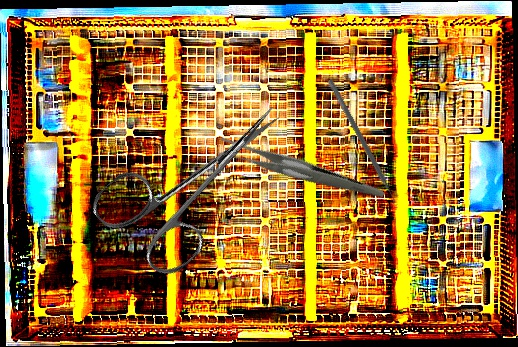Dressing Forceps: (213, 98, 386, 245)
Iris Scissors: (85, 68, 313, 288)
Spatula Surgical: (321, 78, 402, 210)
